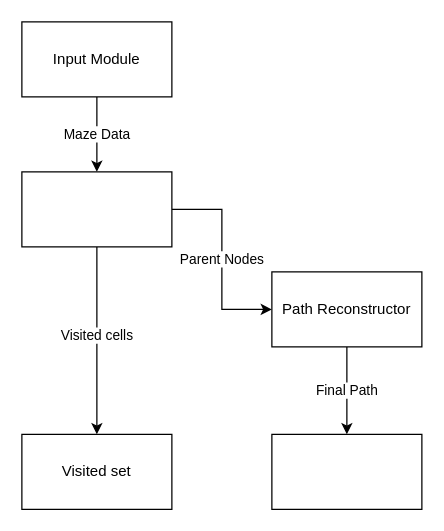
Image size: 444x531. Some labels were removed from this diagram. The shapes that lost their labels are listed below. From the top down, each one's centre as x and y in pixels, then its label:
At (96,209): "Search engine".
At (346,471): "Output module".
